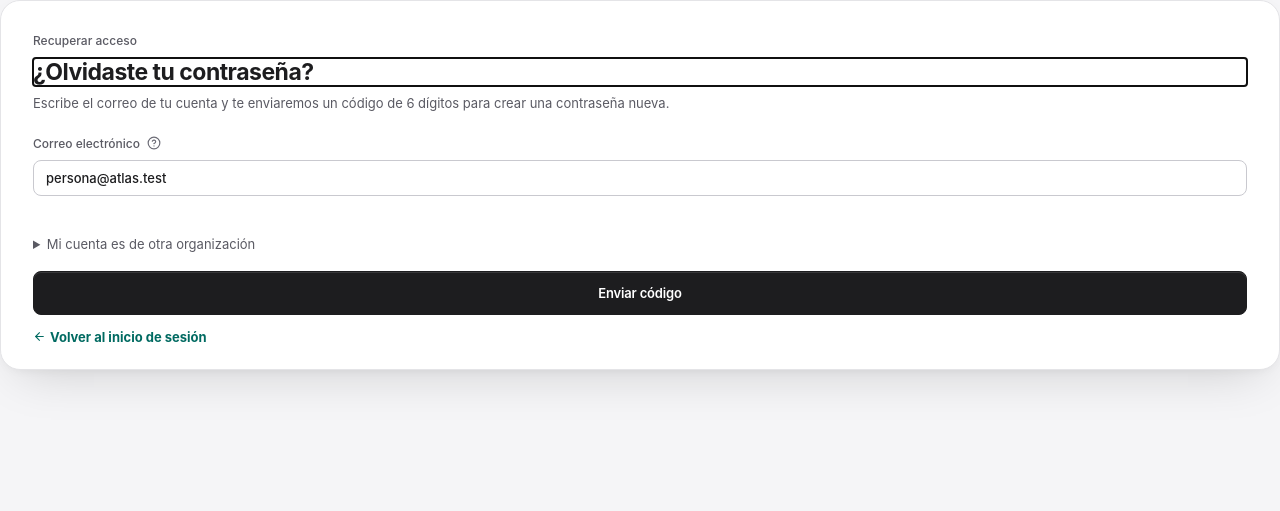
PasswordRecovery › sin correo saliente lo dice sin mostrar el error crudo del servidor
Click the button "Enviar código": coordinates (640, 293) [33,271,1247,315]
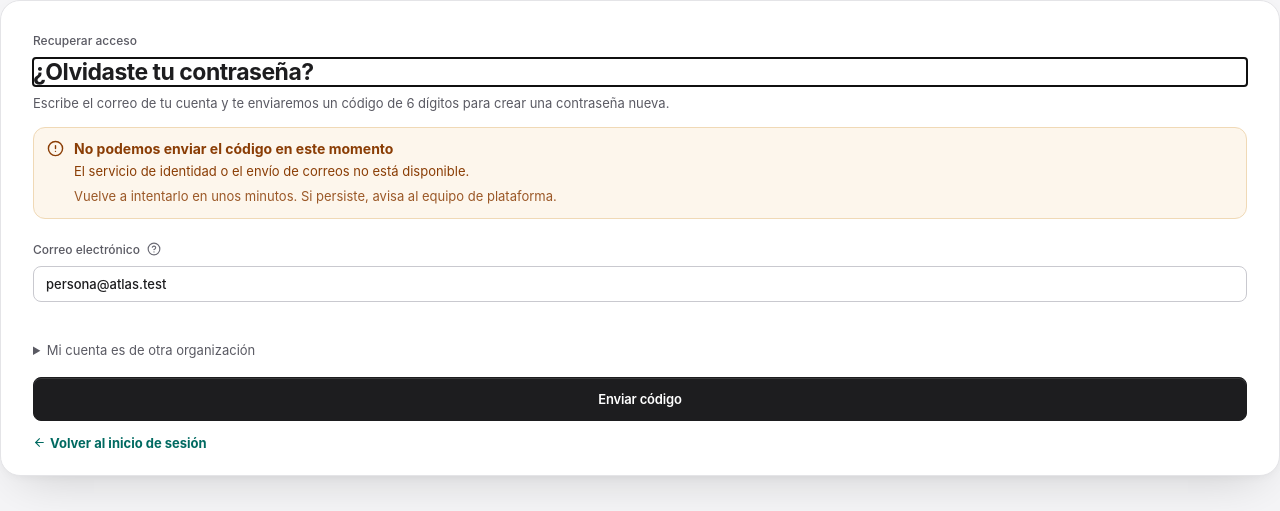
Expected: the text "No podemos enviar el código en este momento" is shown, [74,140,393,157]
